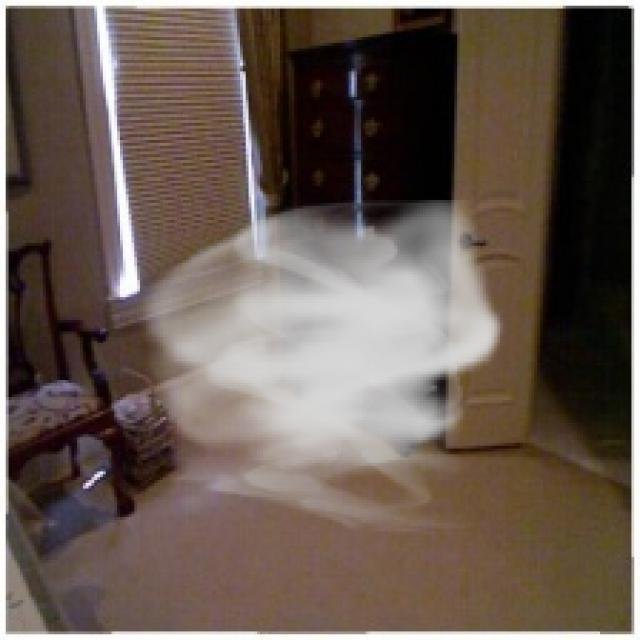Smoke: (128, 188, 506, 538)
